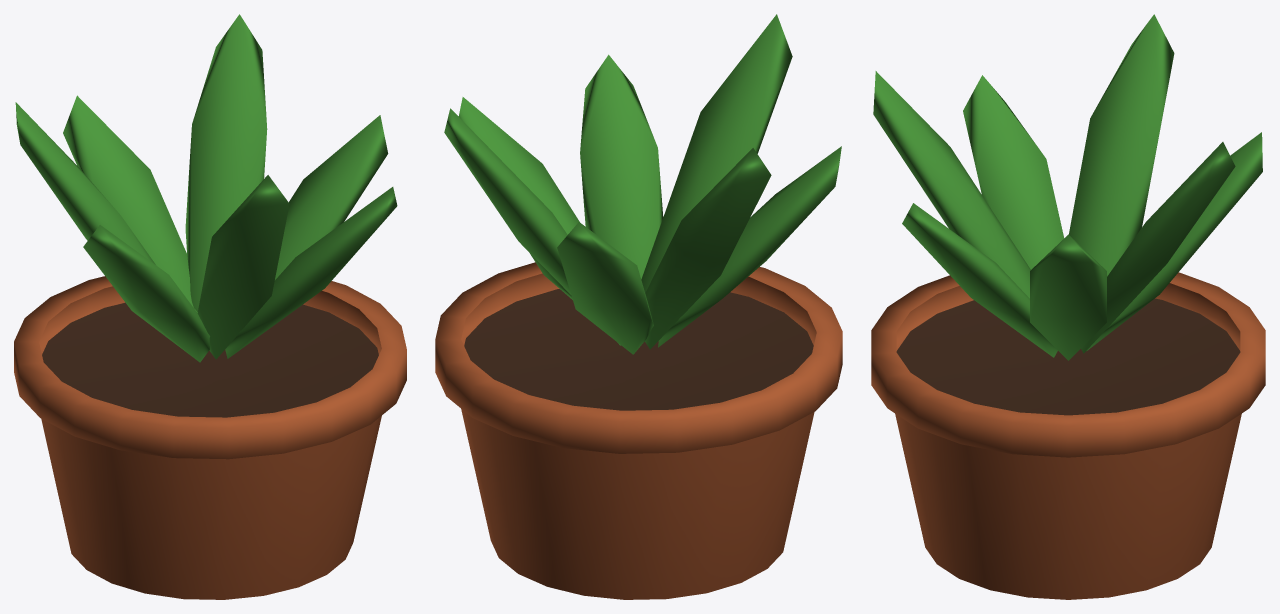
File: furn_herb_pot.glb
3 views of the same model, side by side, from view 1: azimuth 30°, elevation 25°; view 2: azimuth 150°, elevation 25°; view 3: azimuth 270°, elevation 25° (orthographic). The views are drawn at different scales.
Visible parts, largest first — view 1: furn_herb_pot_main; view 2: furn_herb_pot_main; view 3: furn_herb_pot_main.
Boxes of the visible parts, <box> form: furn_herb_pot_main: <box>14,14,406,599</box>; furn_herb_pot_main: <box>435,14,842,599</box>; furn_herb_pot_main: <box>871,14,1265,599</box>.
Size of the model in its own units: 0.22 by 0.2741 by 0.2178.
